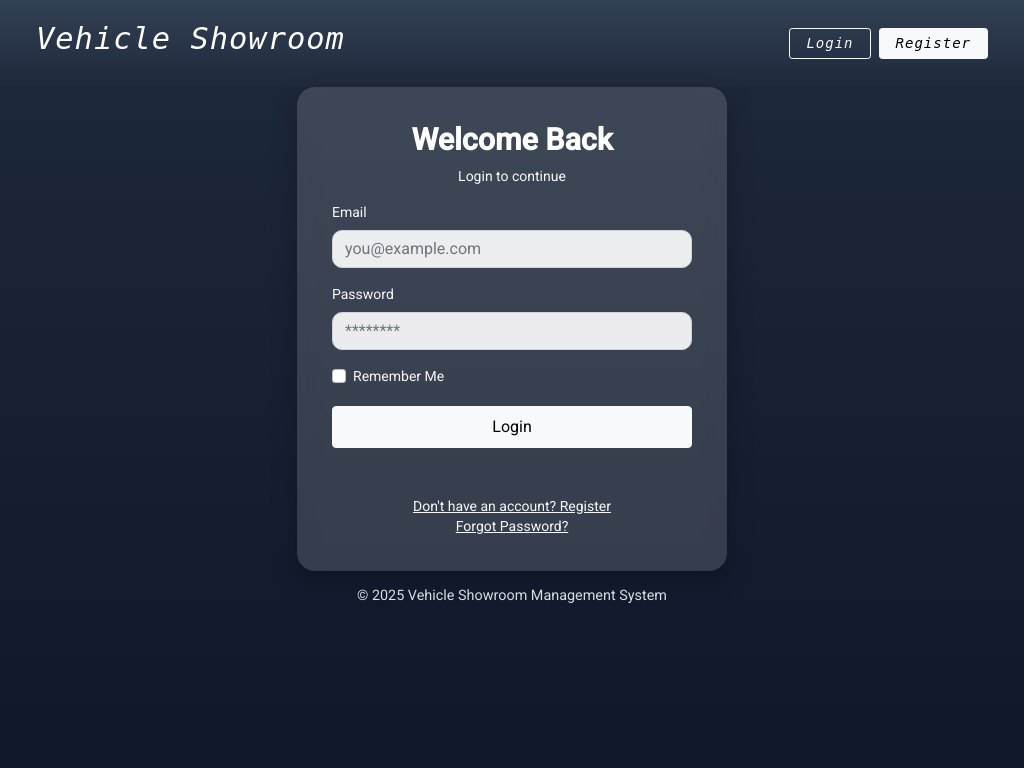
Test: login › should show error on invalid login
This screenshot has width=1024, height=768.
Type "wrong@test.com" into the field named "email" at (512, 249), box x1=332 y1=230 x2=692 y2=268
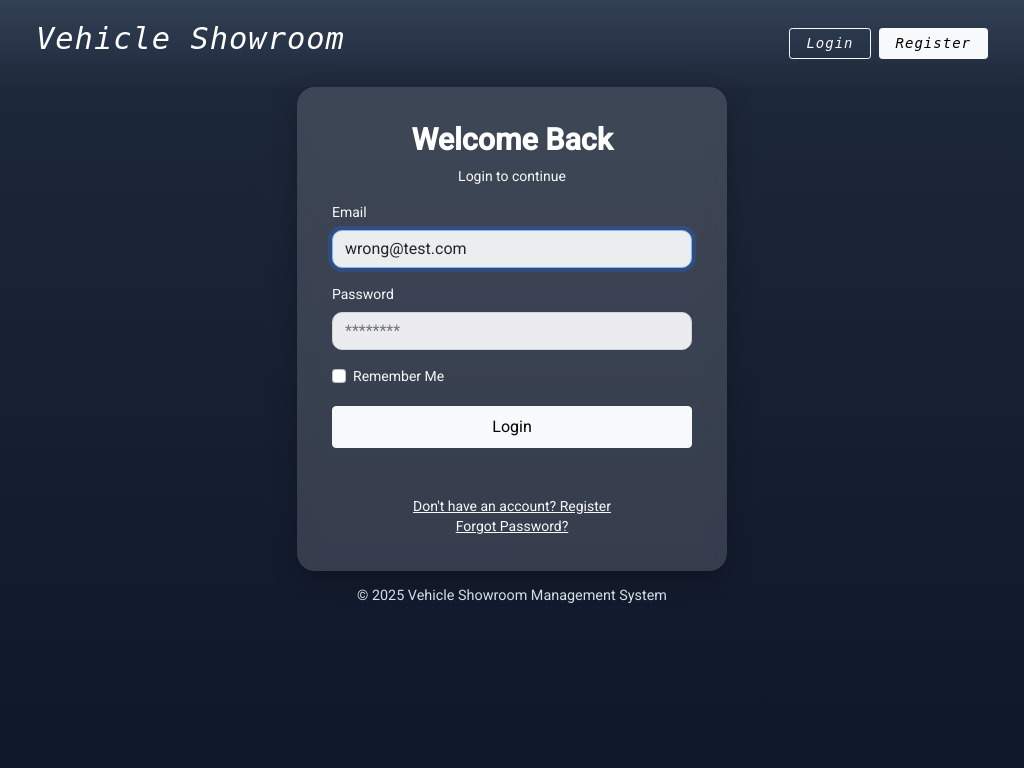
Type "wrongpass" into the password field named "password" at (512, 331), box x1=332 y1=312 x2=692 y2=350
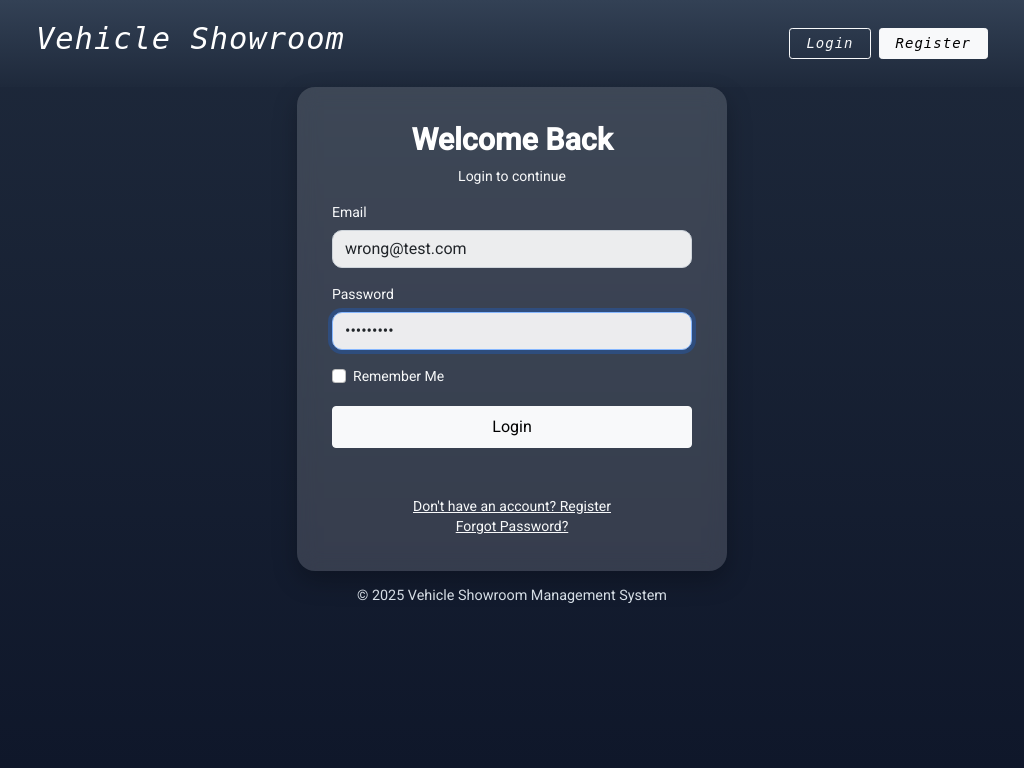
Click the submit button at (512, 427), box x1=332 y1=406 x2=692 y2=448
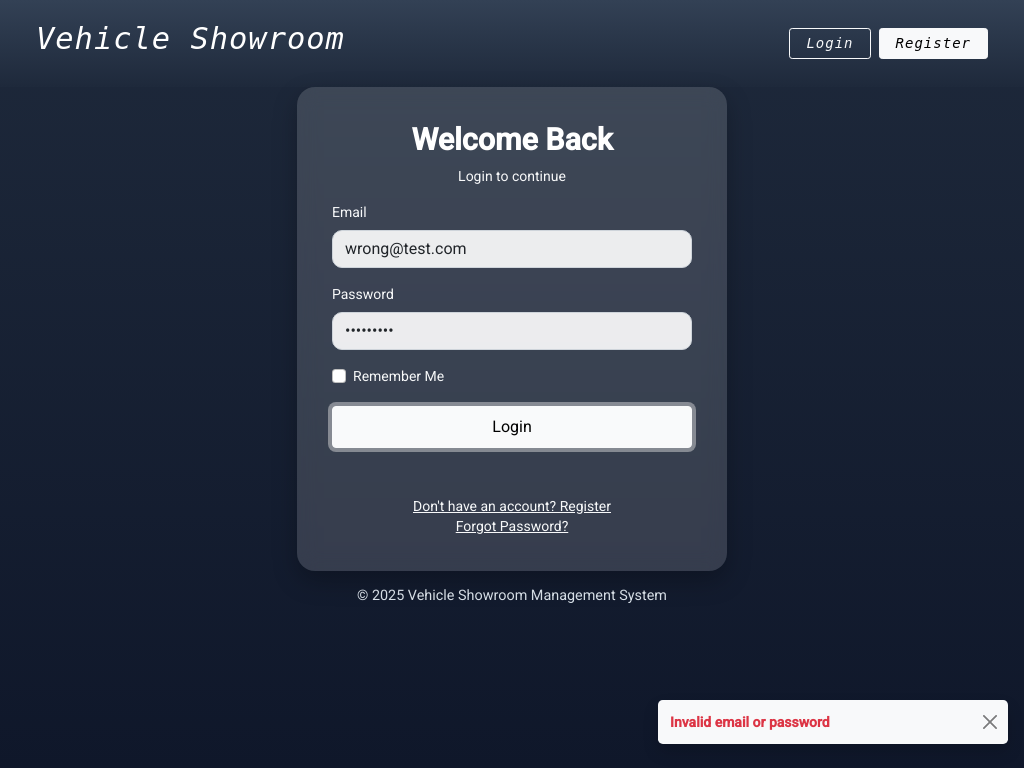
Now the text "Invalid email or password" is shown, box x1=670 y1=714 x2=830 y2=730
